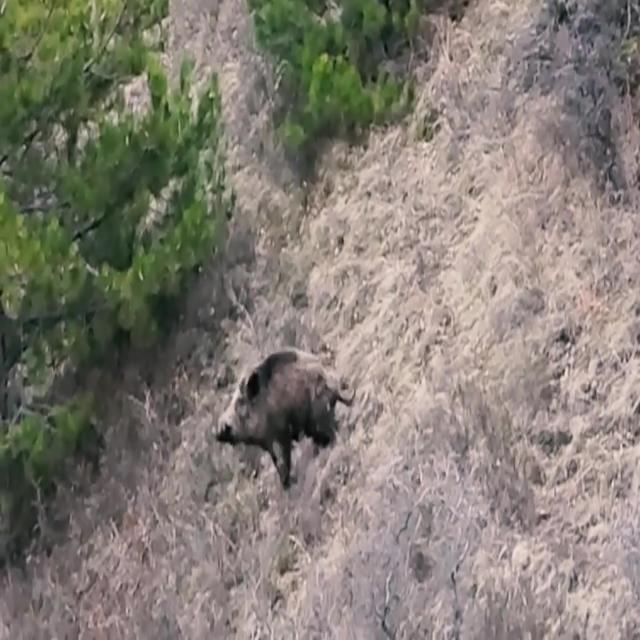pig: (195, 316, 372, 519)
